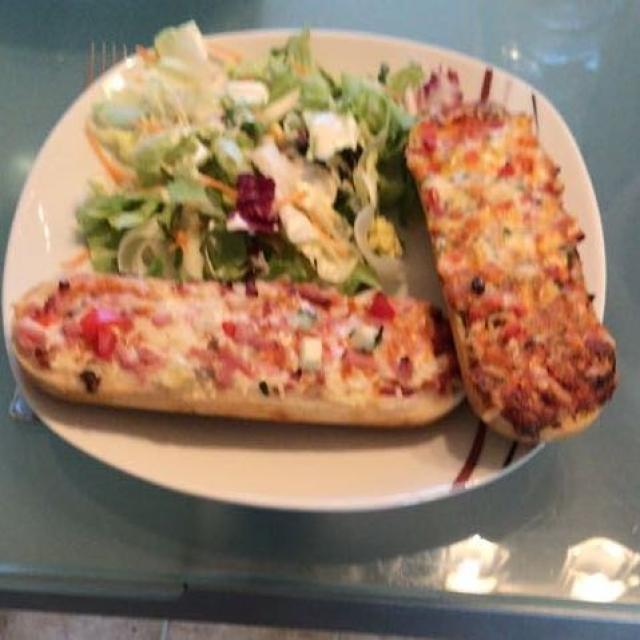bread: (8, 102, 626, 454)
ham: (31, 286, 415, 387)
salad: (75, 18, 426, 292)
